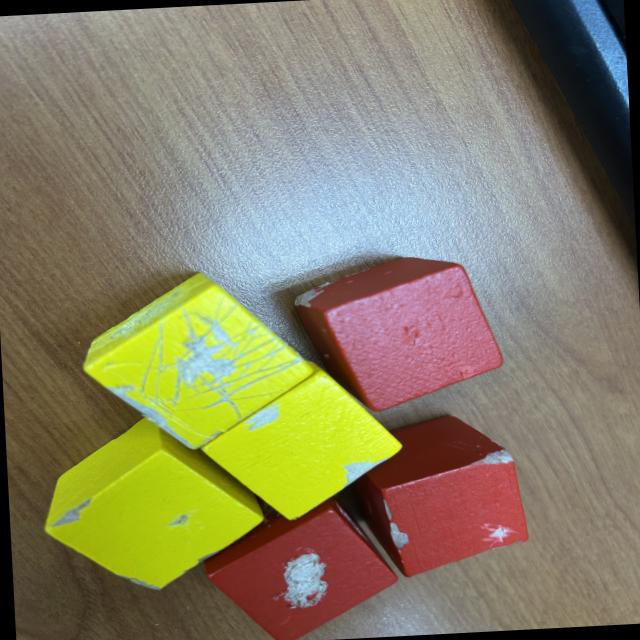broken: (74, 266, 318, 458), (41, 406, 270, 596), (190, 357, 408, 529), (288, 251, 507, 417), (345, 411, 532, 582), (201, 486, 403, 640)
